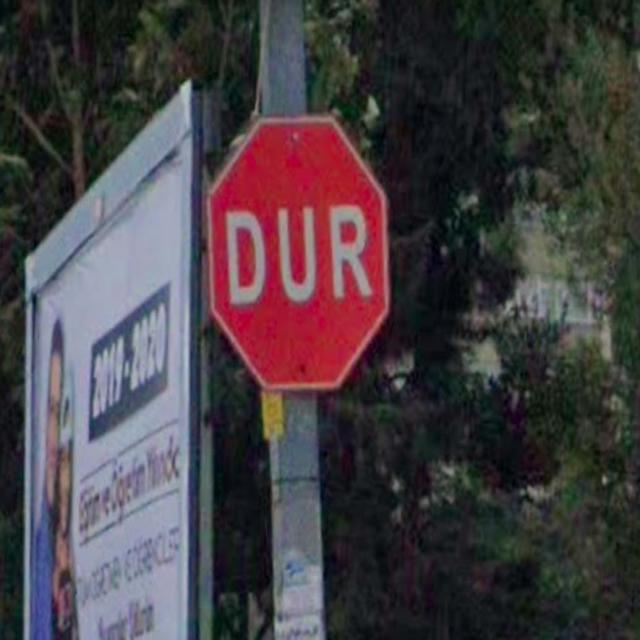dur: (207, 115, 391, 389)
